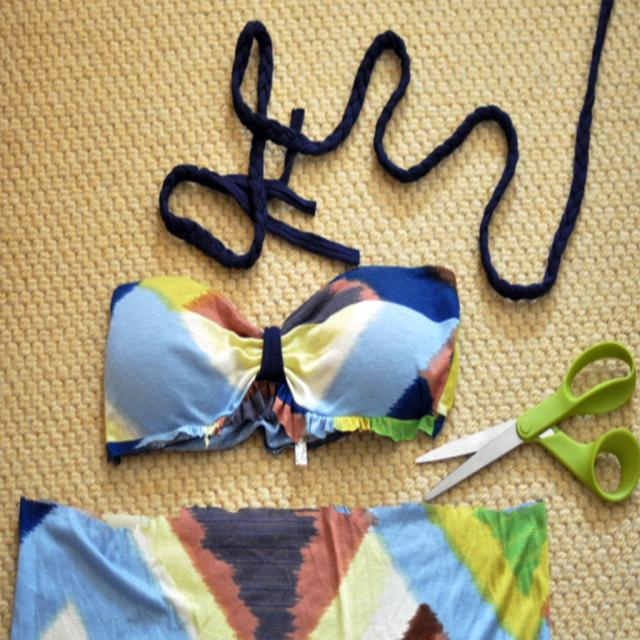scissors: (414, 340, 640, 504)
